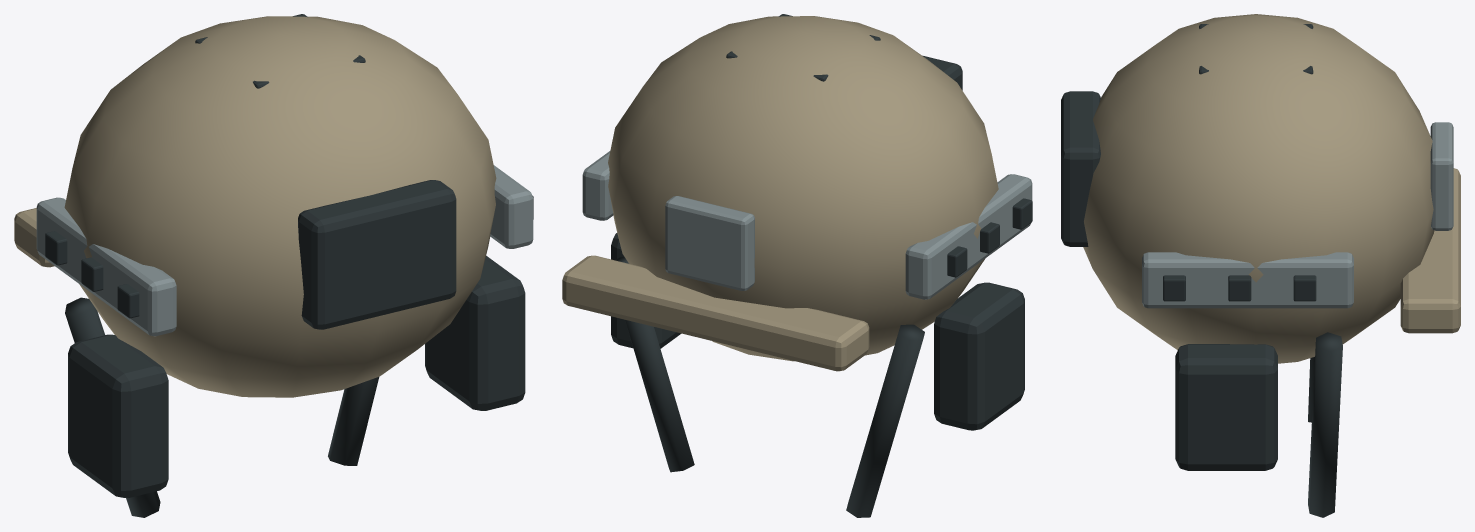
Rendered from helmet_moss_3c.glb.
3 views of the same model, side by side, from view 1: azimuth 30°, elevation 25°; view 2: azimuth 150°, elevation 25°; view 3: azimuth 270°, elevation 25° (orthographic). The views are drawn at different scales.
Parts seen in each view (by area): view 1: helmet_moss_3c; view 2: helmet_moss_3c; view 3: helmet_moss_3c.
Boxes of the visible parts, bbox=[...] form: helmet_moss_3c: bbox=[14, 14, 533, 517]; helmet_moss_3c: bbox=[562, 14, 1032, 517]; helmet_moss_3c: bbox=[1061, 14, 1460, 517].
Bounding box in the file's own units: 0.263 × 0.2936 × 0.245.
